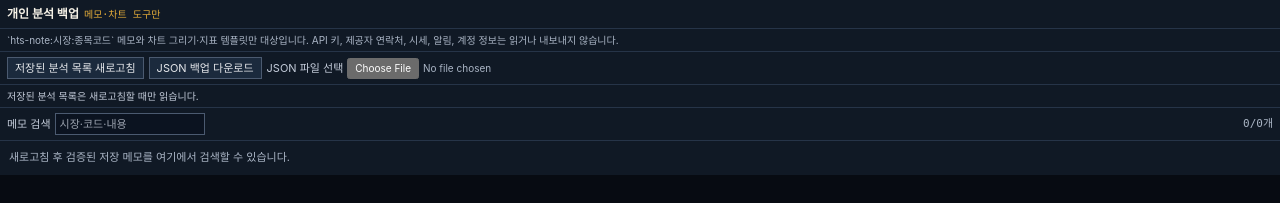
PersonalAnalysisBackup › reads the narrow note list only after the explicit refresh action
Expected: the text "지지선 확인" is not shown
Click the button "저장된 분석 목록 새로고침". click: (75, 68)
box: [7,57,144,79]
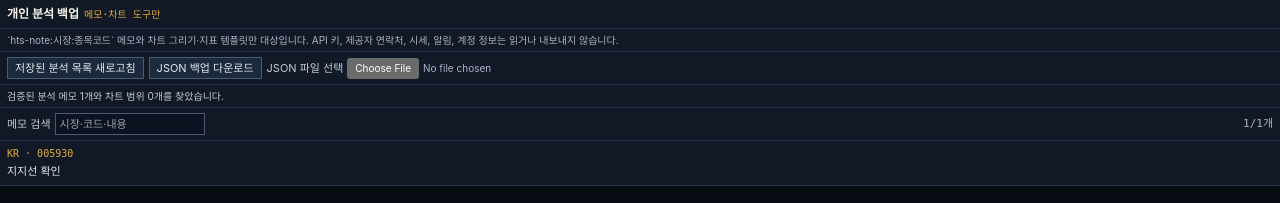
Expected: the text "지지선 확인" is shown, [7,164,61,178]
